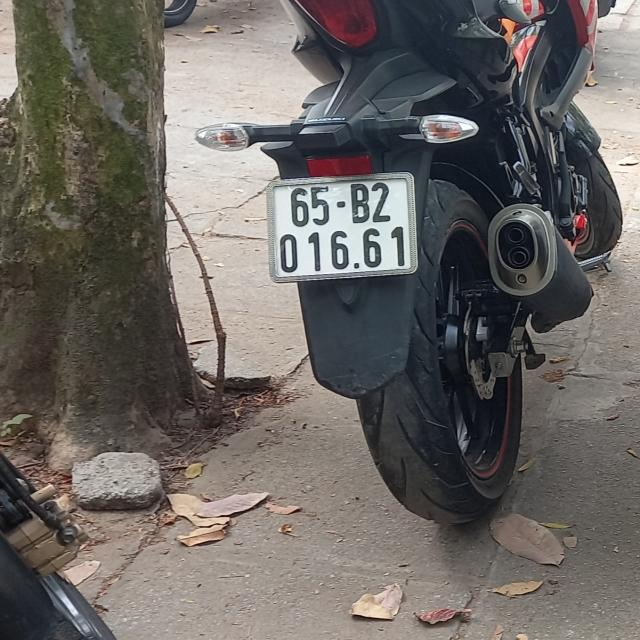0: (280, 233, 299, 271)
1: (306, 232, 328, 272), (390, 223, 408, 267)
2: (371, 180, 392, 224)
5: (309, 183, 329, 226)
6: (290, 186, 310, 227), (362, 228, 381, 269), (331, 230, 348, 270)
B: (348, 181, 370, 225)
